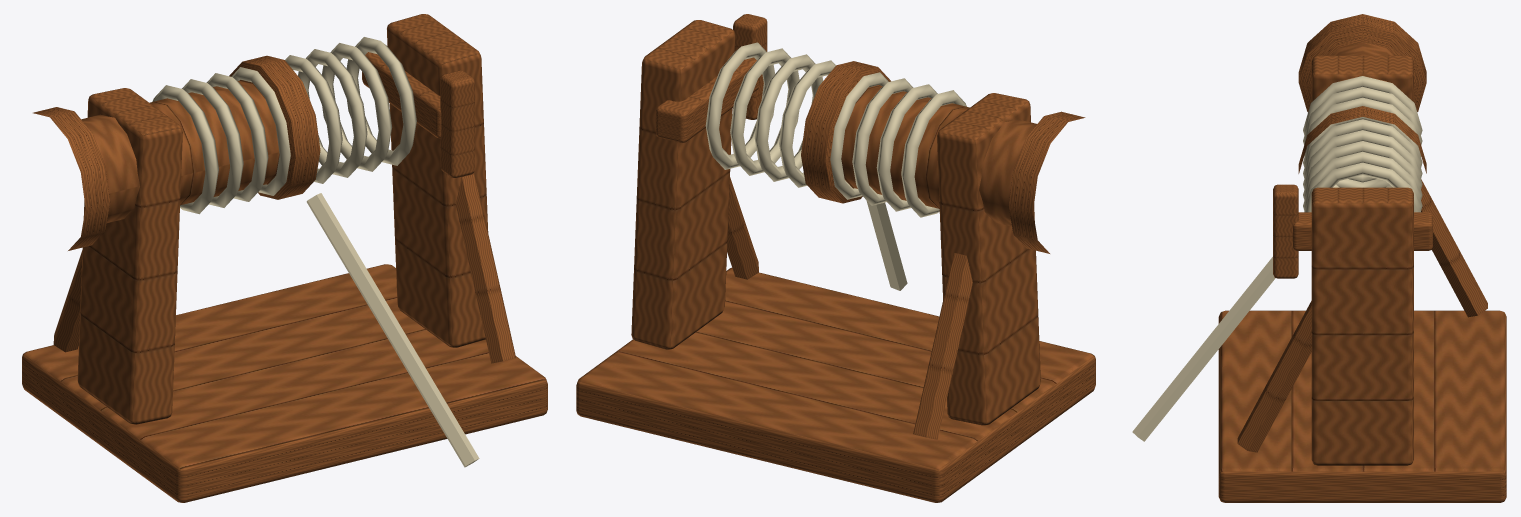
File: jungle-temple-and-stone-city-rope-winch-drum-e8714726__36158.glb
3 renders of one model, left to right at view 1: azimuth 30°, elevation 25°; view 2: azimuth 150°, elevation 25°; view 3: azimuth 270°, elevation 25°, orthographic. The views are drawn at different scales.
Visible parts, largest first — view 1: rope-winch-drum, drum-winch/timber, drum-winch/rope; view 2: rope-winch-drum, drum-winch/timber, drum-winch/rope; view 3: rope-winch-drum, drum-winch/rope, drum-winch/timber.
Boxes of the visible parts, x1,y1,x2,y2 form: rope-winch-drum: (22, 14, 547, 502); drum-winch/timber: (33, 52, 474, 250); drum-winch/rope: (152, 37, 416, 214); rope-winch-drum: (576, 20, 1095, 502); drum-winch/timber: (656, 14, 1085, 253); drum-winch/rope: (705, 42, 966, 217); rope-winch-drum: (1132, 55, 1506, 502); drum-winch/rope: (1303, 76, 1422, 212); drum-winch/timber: (1273, 14, 1432, 278).
Size of the model in its own units: 1.36 by 1.06 by 1.17.
2 materials, 1 textured.
